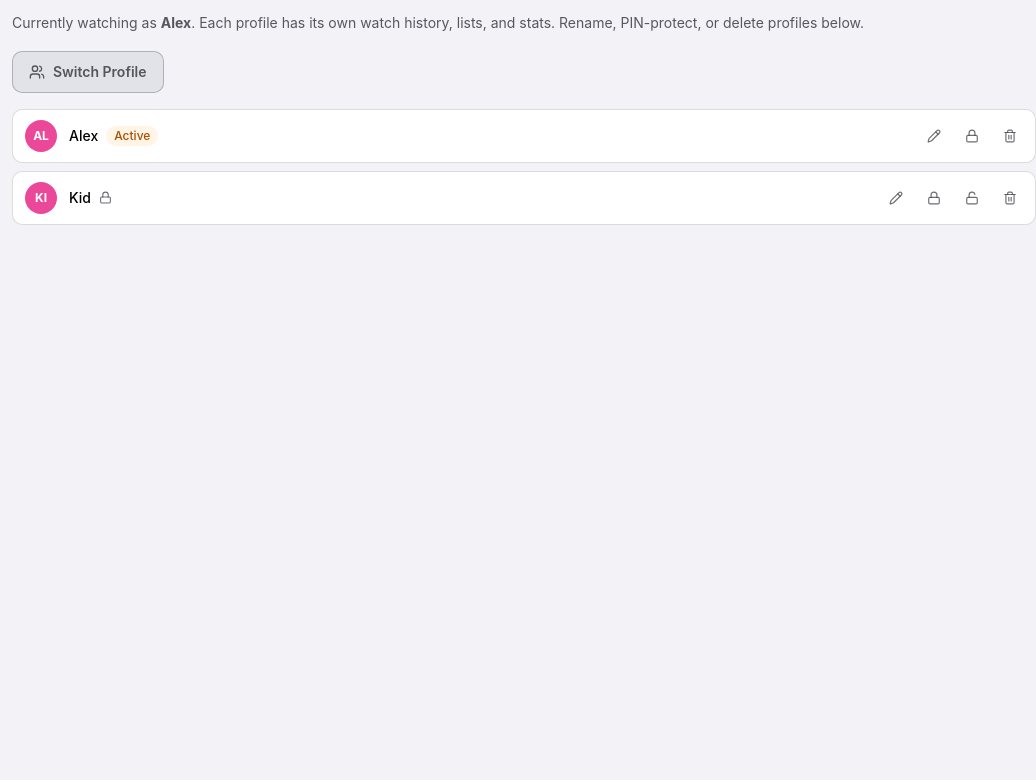
Test: ProfileSettings deletion › confirms first, and deletes without a PIN when the server doesn't ask
This screenshot has width=1036, height=780.
What coordinates should you click on to do the following:
click the button named "Delete Kid"
I would click on:
 (1010, 198)
Its box is [997,185,1023,211].
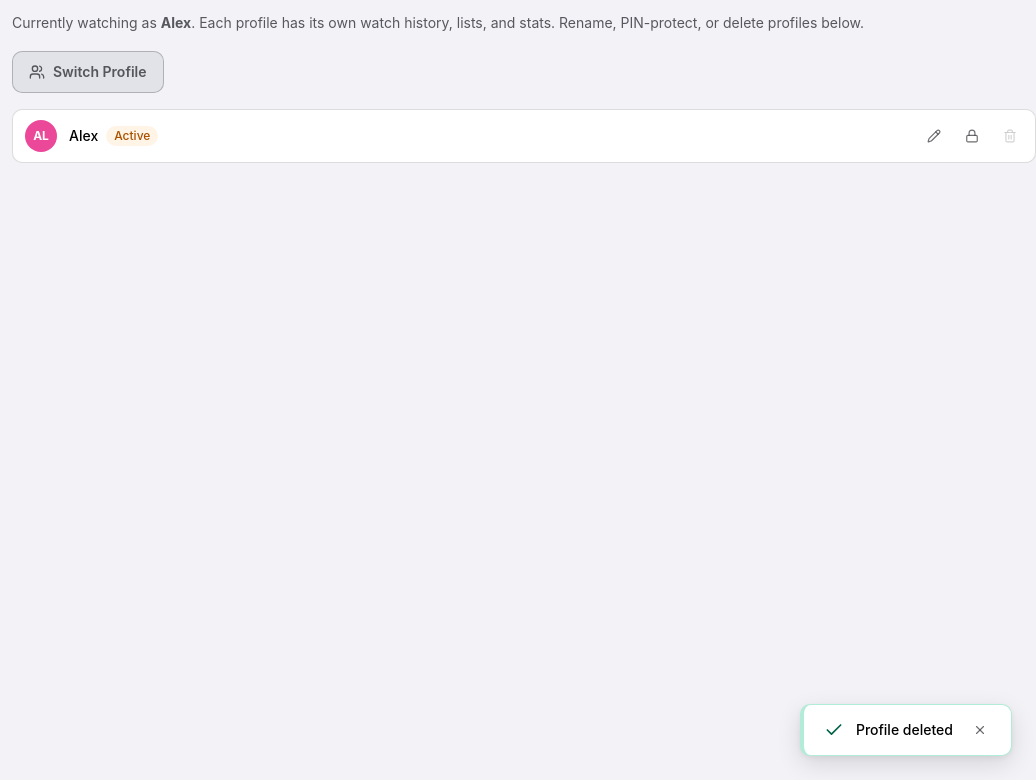
Result: the text "Kid" is gone
